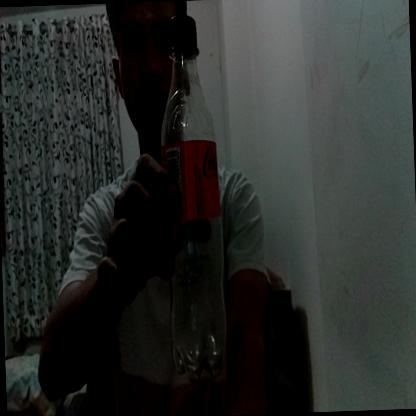plastic_bottles: (152, 9, 230, 387)
